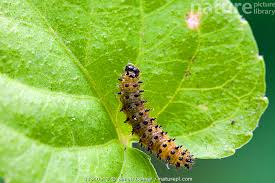Caterpillar: (117, 63, 197, 174)
